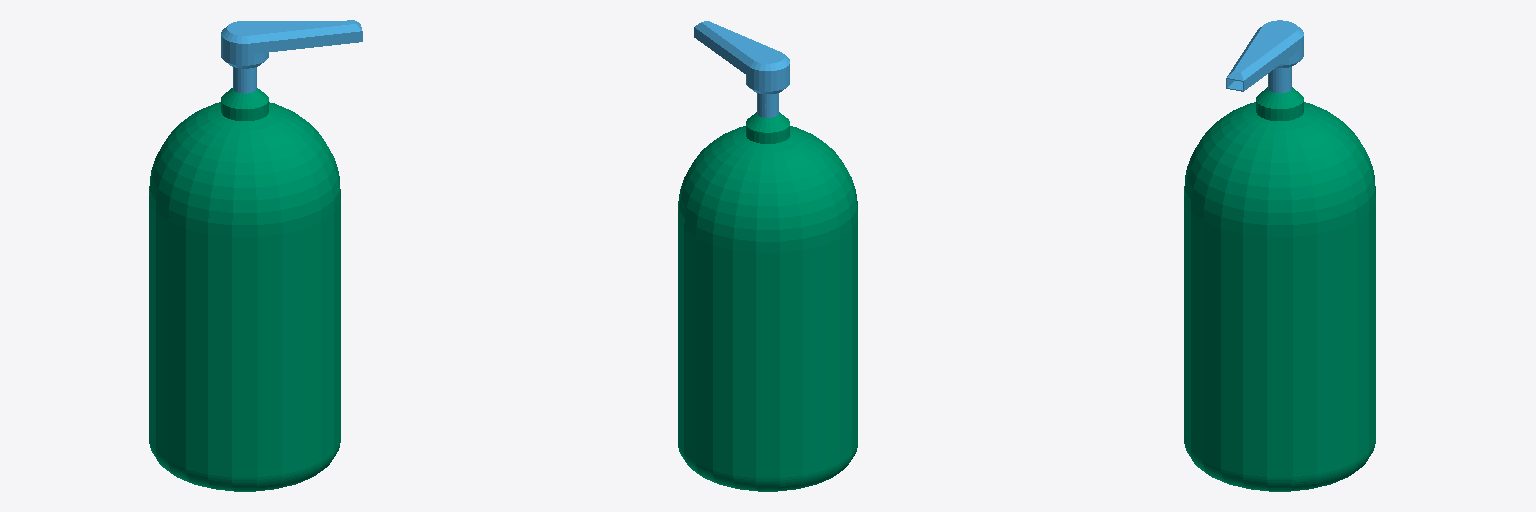
The robot description file, URDF, robot "partnet_5ca994bd512be485db3bac7ad77ae88e":
<?xml version="1.0" ?>
<robot name="partnet_5ca994bd512be485db3bac7ad77ae88e">
	<link name="base"/>
	<link name="link_0">
		<visual name="mouth-8">
			<origin xyz="-0.004069706478648613 0 -0.007451467190511252"/>
			<geometry>
				<mesh filename="textured_objs/new-0.obj"/>
			</geometry>
		</visual>
		<visual name="mouth-8">
			<origin xyz="-0.004069706478648613 0 -0.007451467190511252"/>
			<geometry>
				<mesh filename="textured_objs/new-1.obj"/>
			</geometry>
		</visual>
		<visual name="mouth-8">
			<origin xyz="-0.004069706478648613 0 -0.007451467190511252"/>
			<geometry>
				<mesh filename="textured_objs/original-3.obj"/>
			</geometry>
		</visual>
		<visual name="mouth-8">
			<origin xyz="-0.004069706478648613 0 -0.007451467190511252"/>
			<geometry>
				<mesh filename="textured_objs/original-4.obj"/>
			</geometry>
		</visual>
		<collision>
			<origin xyz="-0.004069706478648613 0 -0.007451467190511252"/>
			<geometry>
				<mesh filename="textured_objs/new-0.obj"/>
			</geometry>
		</collision>
		<collision>
			<origin xyz="-0.004069706478648613 0 -0.007451467190511252"/>
			<geometry>
				<mesh filename="textured_objs/new-1.obj"/>
			</geometry>
		</collision>
		<collision>
			<origin xyz="-0.004069706478648613 0 -0.007451467190511252"/>
			<geometry>
				<mesh filename="textured_objs/original-3.obj"/>
			</geometry>
		</collision>
		<collision>
			<origin xyz="-0.004069706478648613 0 -0.007451467190511252"/>
			<geometry>
				<mesh filename="textured_objs/original-4.obj"/>
			</geometry>
		</collision>
	</link>
	<joint name="joint_0" type="continuous">
		<origin xyz="0.0 0 0.0"/>
		<axis xyz="0 1 0"/>
		<child link="link_0"/>
		<parent link="link_0_helper"/>
	</joint>
	<link name="link_1">
		<visual name="body-6">
			<origin xyz="0 0 0"/>
			<geometry>
				<mesh filename="textured_objs/new-5.obj"/>
			</geometry>
		</visual>
		<visual name="body-6">
			<origin xyz="0 0 0"/>
			<geometry>
				<mesh filename="textured_objs/new-4.obj"/>
			</geometry>
		</visual>
		<visual name="lid-7">
			<origin xyz="0 0 0"/>
			<geometry>
				<mesh filename="textured_objs/new-2.obj"/>
			</geometry>
		</visual>
		<collision>
			<origin xyz="0 0 0"/>
			<geometry>
				<mesh filename="textured_objs/new-5.obj"/>
			</geometry>
		</collision>
		<collision>
			<origin xyz="0 0 0"/>
			<geometry>
				<mesh filename="textured_objs/new-4.obj"/>
			</geometry>
		</collision>
		<collision>
			<origin xyz="0 0 0"/>
			<geometry>
				<mesh filename="textured_objs/new-2.obj"/>
			</geometry>
		</collision>
	</link>
	<joint name="joint_1" type="fixed">
		<origin rpy="1.570796326794897 0 -1.570796326794897" xyz="0 0 0"/>
		<child link="link_1"/>
		<parent link="base"/>
	</joint>
	<link name="link_0_helper"/>
	<joint name="joint_2" type="prismatic">
		<origin xyz="0.004069706478648613 0 0.007451467190511252"/>
		<axis xyz="0 -1 0"/>
		<child link="link_0_helper"/>
		<parent link="link_1"/>
		<limit lower="0" upper="0.08400000000000007"/>
	</joint>
</robot>

--- What the picture shows (computed from the rendered views, not written in the file) ---
Views: 3 orthographic renders of the robot side by side, from view 1: azimuth 30°, elevation 25°; view 2: azimuth 150°, elevation 25°; view 3: azimuth 270°, elevation 25°.
Robot: partnet_5ca994bd512be485db3bac7ad77ae88e — 4 links, 3 joints (1 continuous, 1 prismatic, 1 fixed); root link base; default pose: every joint at zero.
Visible links, largest first — view 1: link_1, link_0; view 2: link_1, link_0; view 3: link_1, link_0.
Boxes of the visible links, x1=… form: link_1: x1=149, y1=88, x2=340, y2=491; link_0: x1=221, y1=20, x2=362, y2=93; link_1: x1=678, y1=112, x2=857, y2=491; link_0: x1=694, y1=21, x2=789, y2=117; link_1: x1=1184, y1=87, x2=1375, y2=491; link_0: x1=1226, y1=20, x2=1303, y2=92.
Bounding box of the posed robot: 0.7215 × 0.6642 × 1.65 m (x, y, z).
7 mesh visuals loaded from 7 distinct referenced files (7 OBJ).